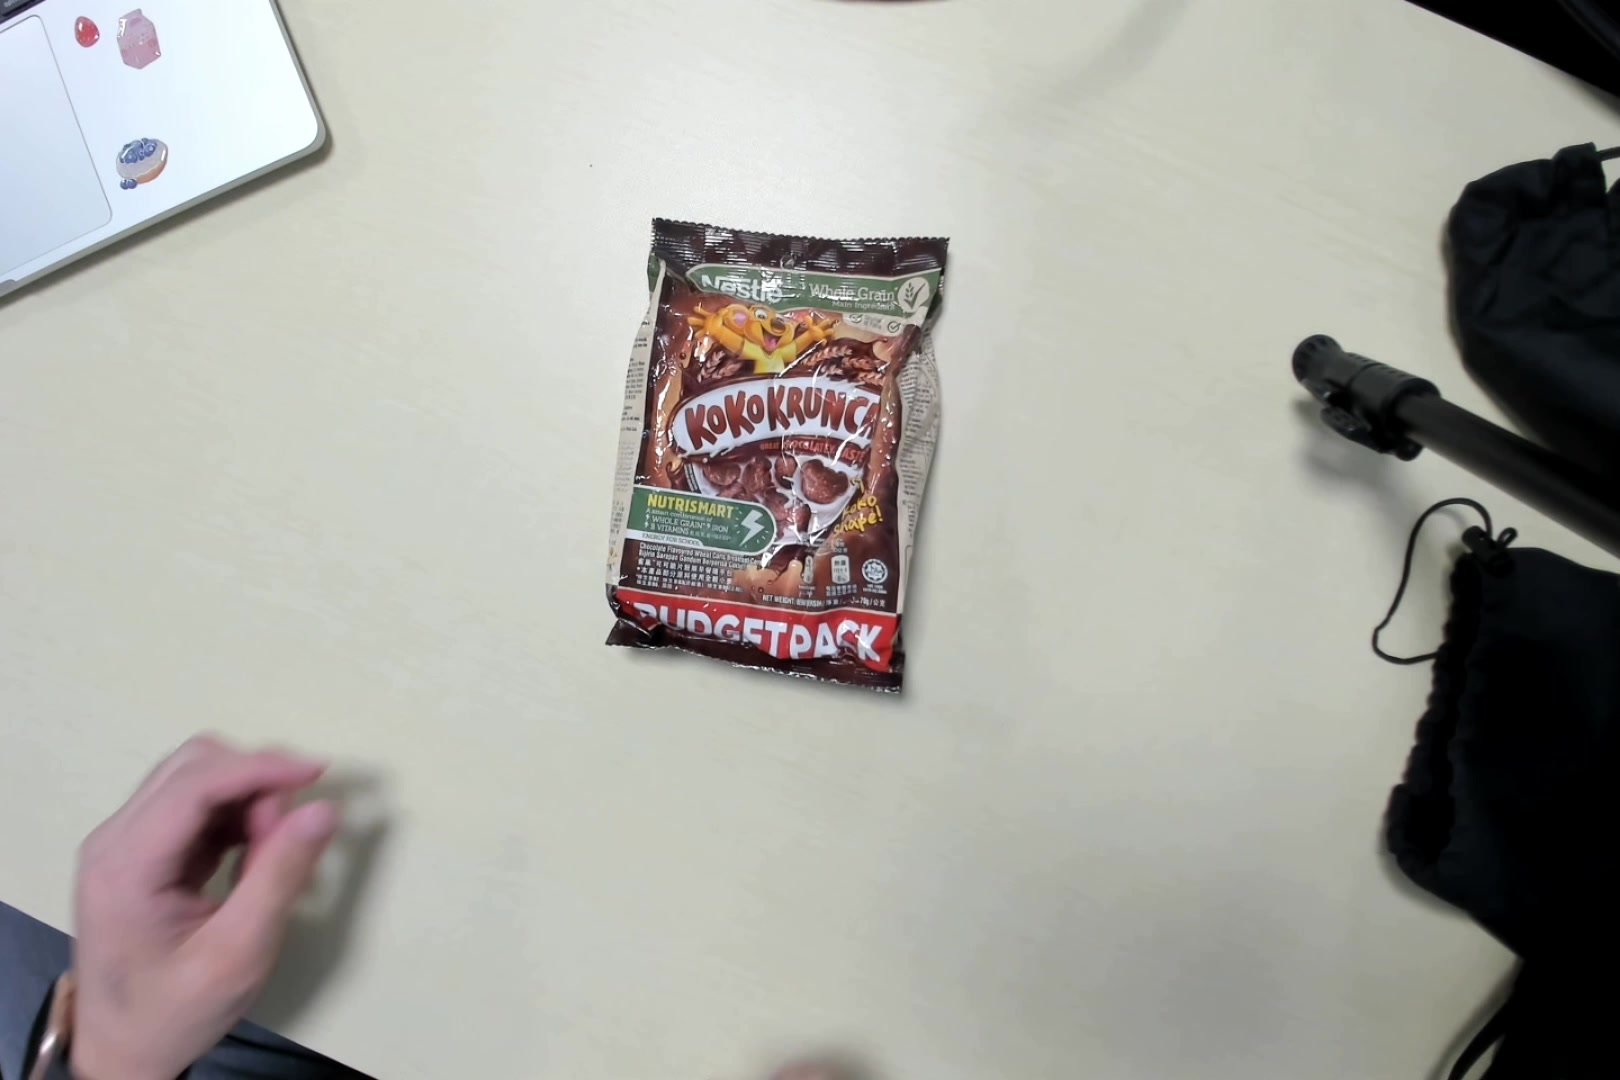BreakfastCereals_0-99g_Halal_NonHealthy: (604, 206, 931, 689)
